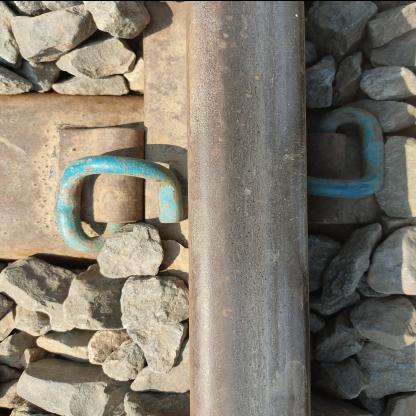Non Defective 1: (28, 117, 210, 272), (246, 78, 415, 234)
